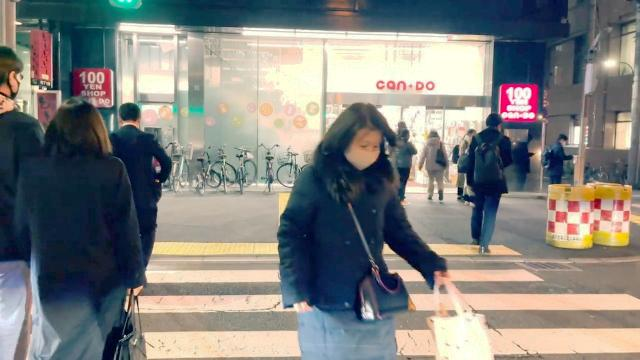berjalan: (266, 100, 458, 360), (15, 105, 148, 360), (463, 110, 523, 258)
